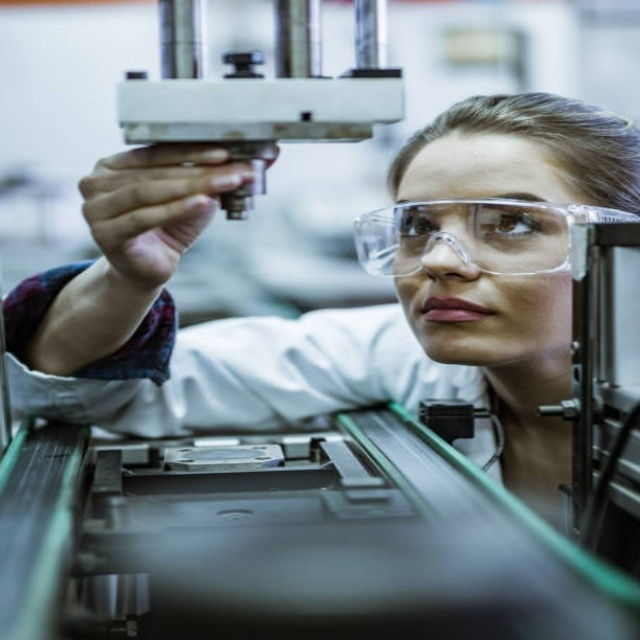Gafas: (349, 199, 638, 280)
Sin_guantes: (79, 138, 270, 284)
Sin_mascara: (407, 290, 507, 351)
